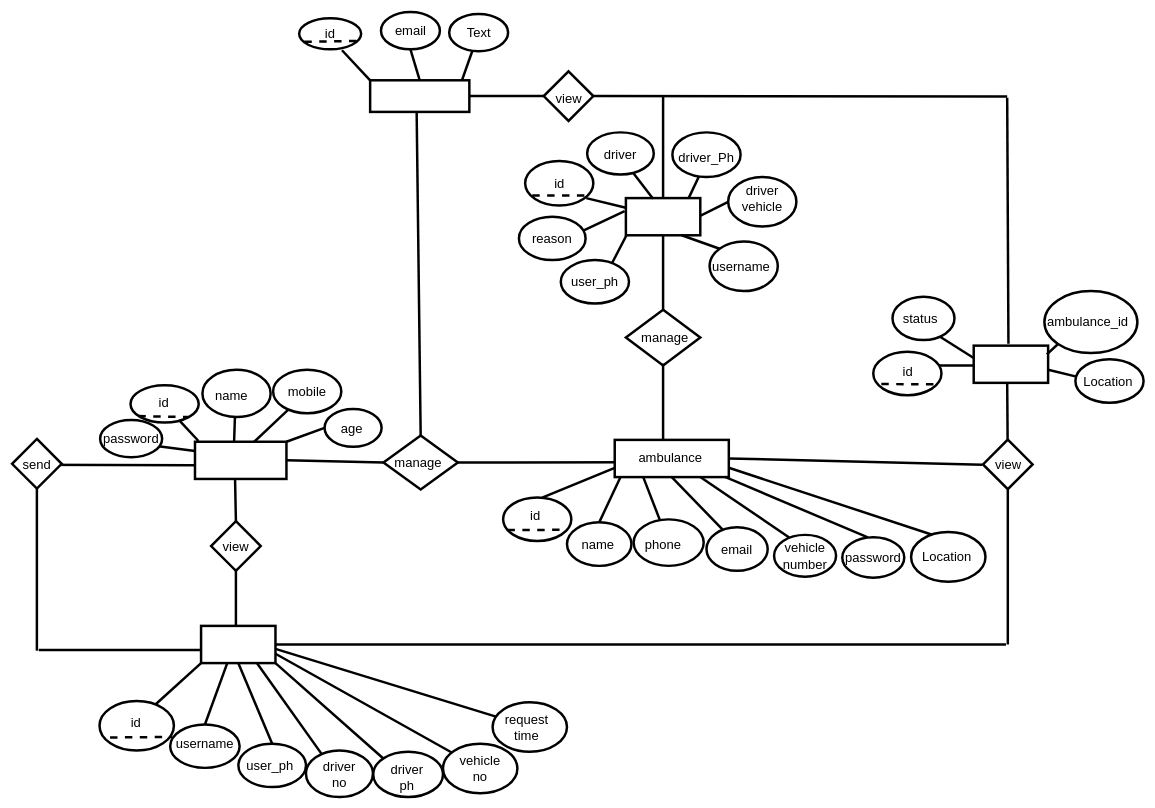
This 1155x808 diagram has some shape labels left out. The shapes that lost their labels are listed below. From the top down, each one's box as (x1, y1, x2, y2) in pixels, then its label:
(369, 79, 470, 113): POLICE
(624, 197, 701, 236): report
(972, 344, 1049, 384): IOT
(193, 440, 287, 480): user
(200, 624, 276, 664): request
